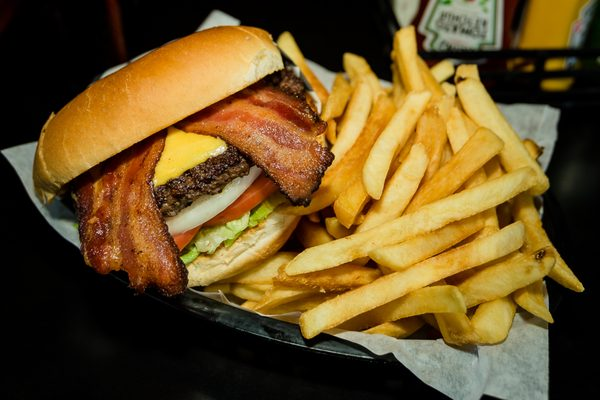soup: (32, 24, 334, 296)
